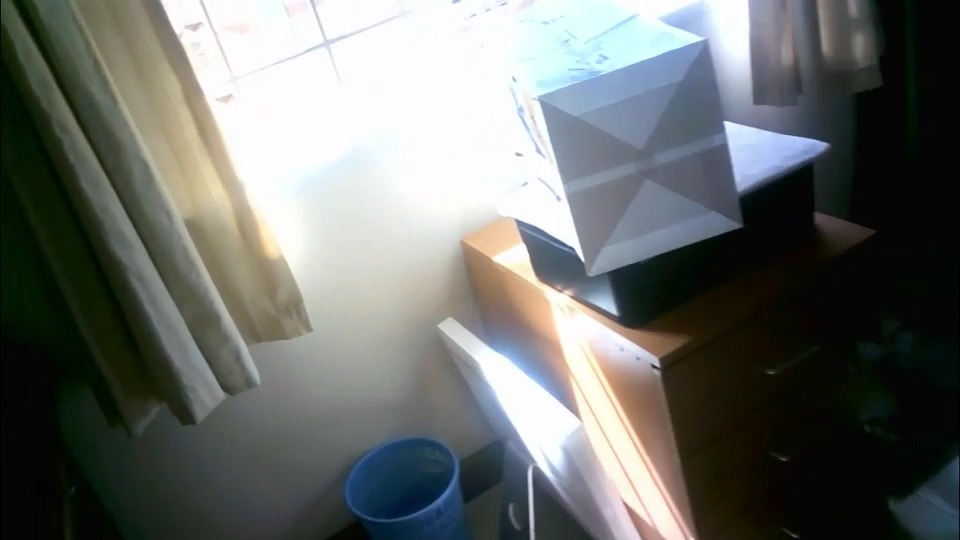wheat_flour_blue_label: (501, 6, 743, 274)
